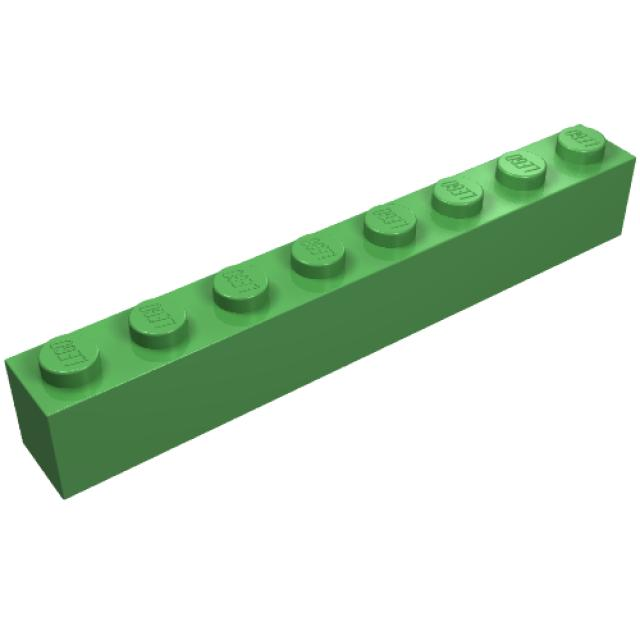Green_Large: (4, 124, 639, 502)
